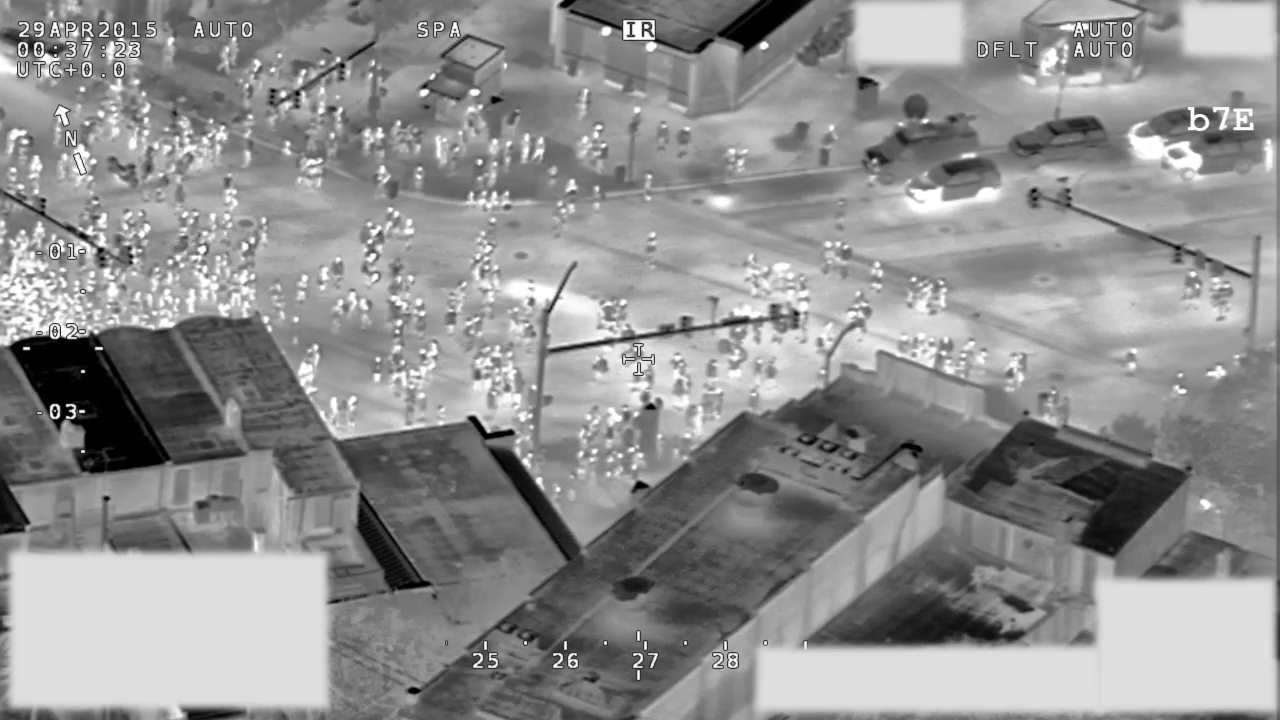vehicle: (860, 93, 983, 189), (1126, 102, 1247, 162), (1160, 126, 1280, 180), (1003, 112, 1112, 171), (901, 153, 1006, 211)
